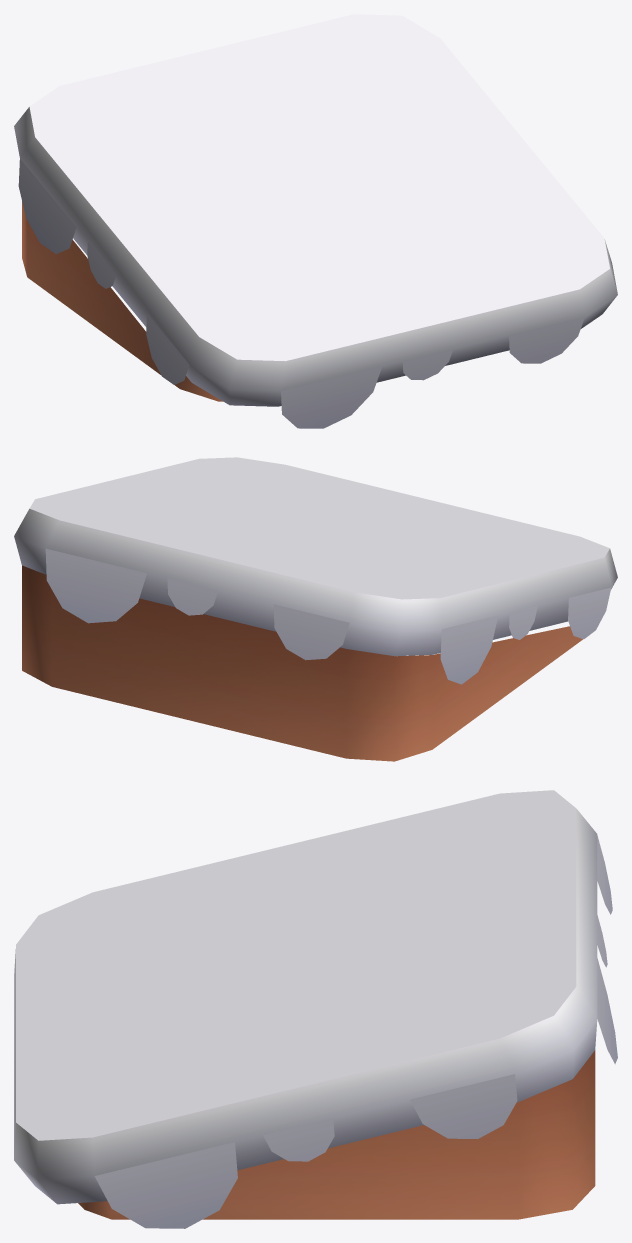
File: kenney-platformer-block-snow-overhang-large-slope.glb
3 views of the same model, one above another, from view 1: azimuth 30°, elevation 25°; view 2: azimuth 150°, elevation 25°; view 3: azimuth 270°, elevation 25° (orthographic). The views are drawn at different scales.
Parts seen in each view (by area): view 1: block-snow-overhang-large-slope; view 2: block-snow-overhang-large-slope; view 3: block-snow-overhang-large-slope.
Part boxes in pixels (<box>): block-snow-overhang-large-slope: <box>14,14,617,428</box>; block-snow-overhang-large-slope: <box>14,457,617,761</box>; block-snow-overhang-large-slope: <box>14,790,617,1228</box>.
Bounding box in the file's own units: 2.08 × 0.9144 × 2.08.
Materials: 1 (1 with a texture image).
